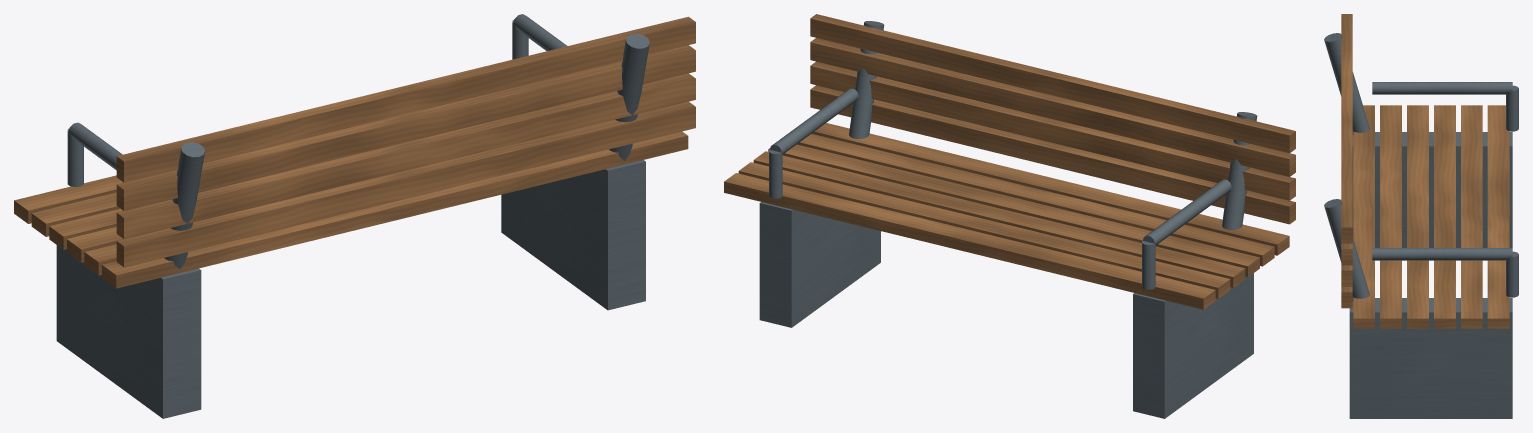
The model's file is bench.glb.
3 renders of one model, left to right at view 1: azimuth 30°, elevation 25°; view 2: azimuth 150°, elevation 25°; view 3: azimuth 270°, elevation 25°, orthographic. The views are drawn at different scales.
Visible parts, largest first — view 1: bench; view 2: bench; view 3: bench.
Part boxes in pixels (<box>): bench: <box>14,14,695,418</box>; bench: <box>724,14,1295,418</box>; bench: <box>1324,14,1518,418</box>.
Bounding box in the file's own units: 1.8 × 0.8287 × 0.6948.
2 materials, 2 textured.
